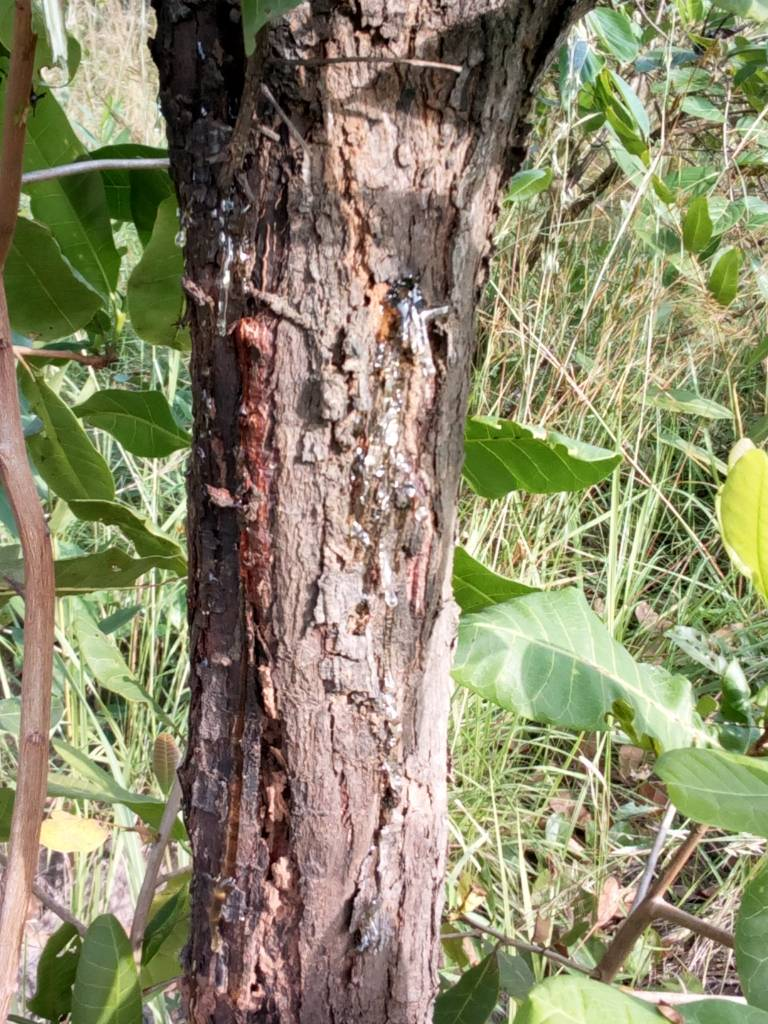Termites: (165, 17, 449, 1024)
